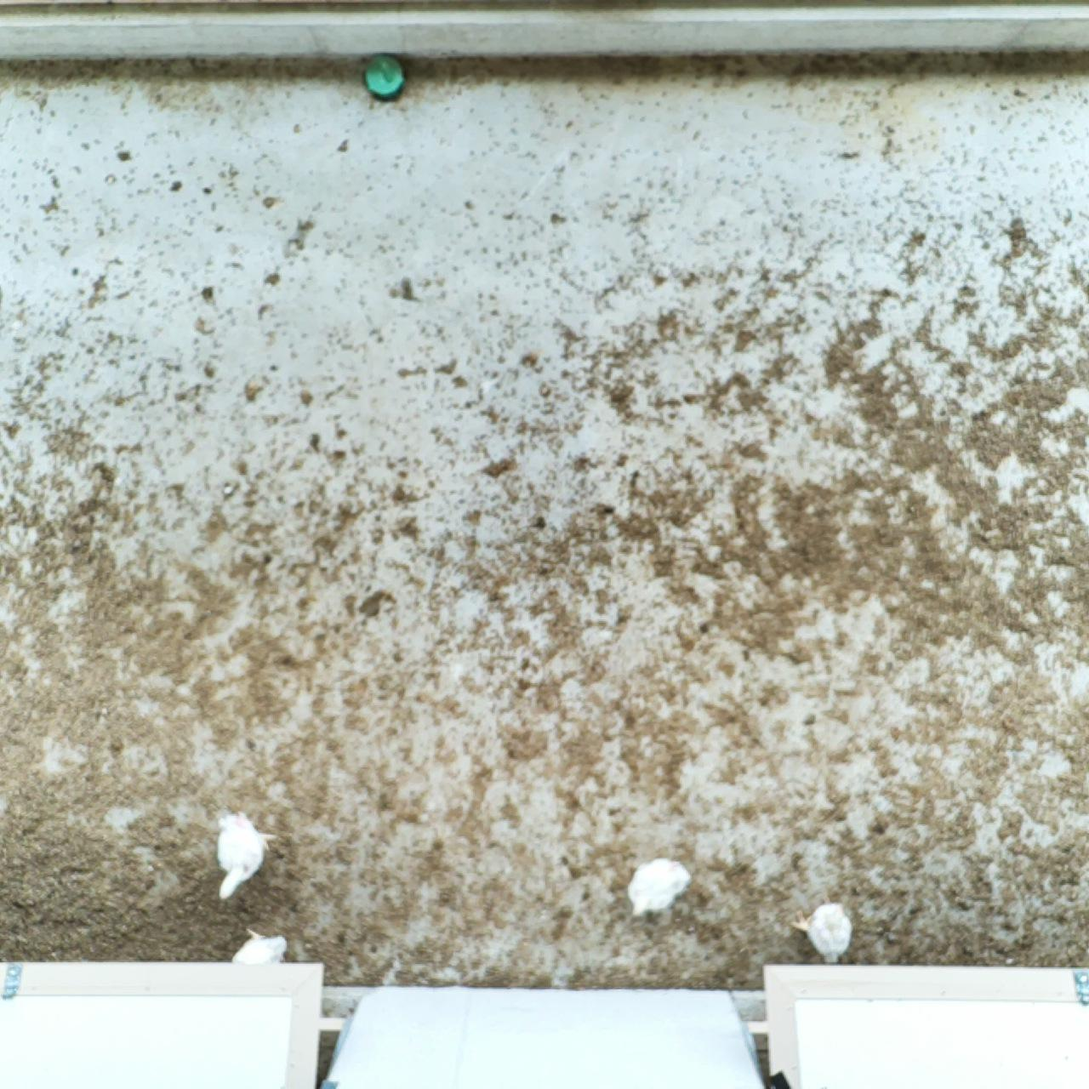chicken: (213, 804, 280, 904), (788, 891, 857, 966), (623, 853, 694, 919), (227, 925, 291, 966)
